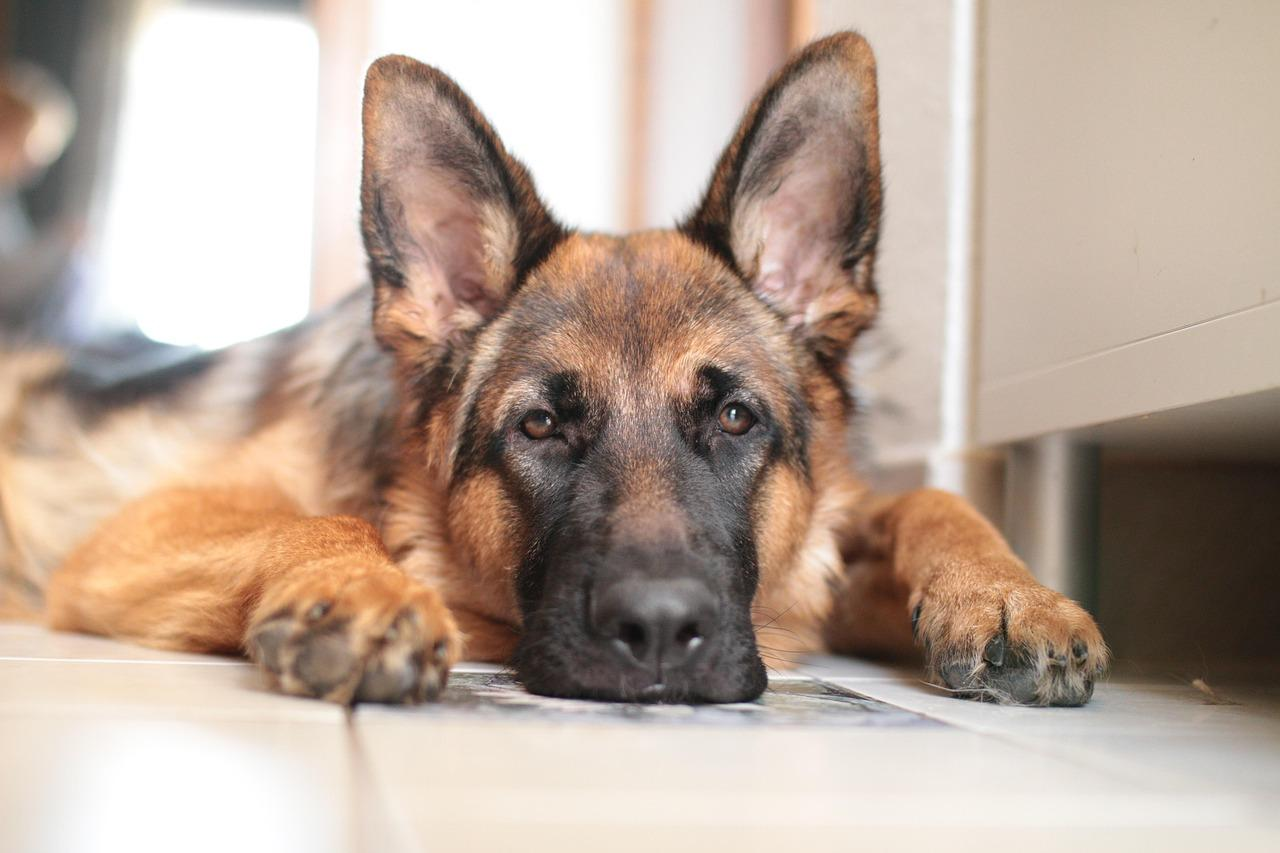german_shepherd: (353, 49, 910, 749)
